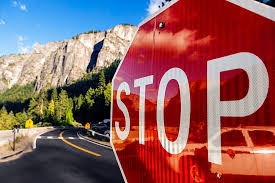Stop: (110, 1, 270, 178)
